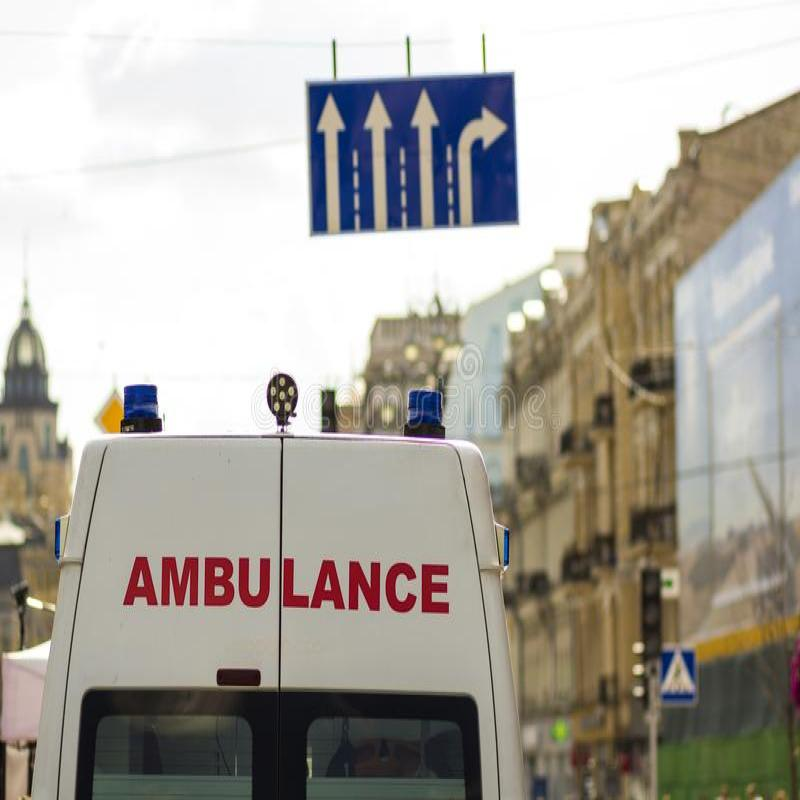AmbulanceSiren: (394, 372, 456, 444), (117, 379, 164, 436)
